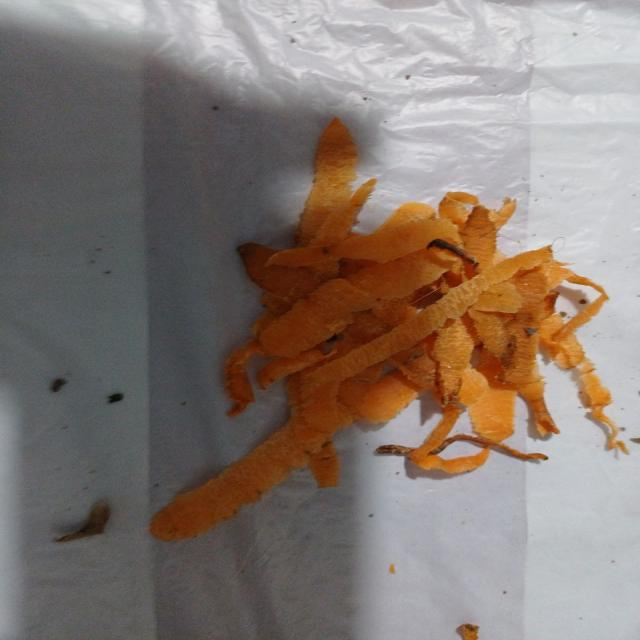organic: (158, 118, 622, 534)
